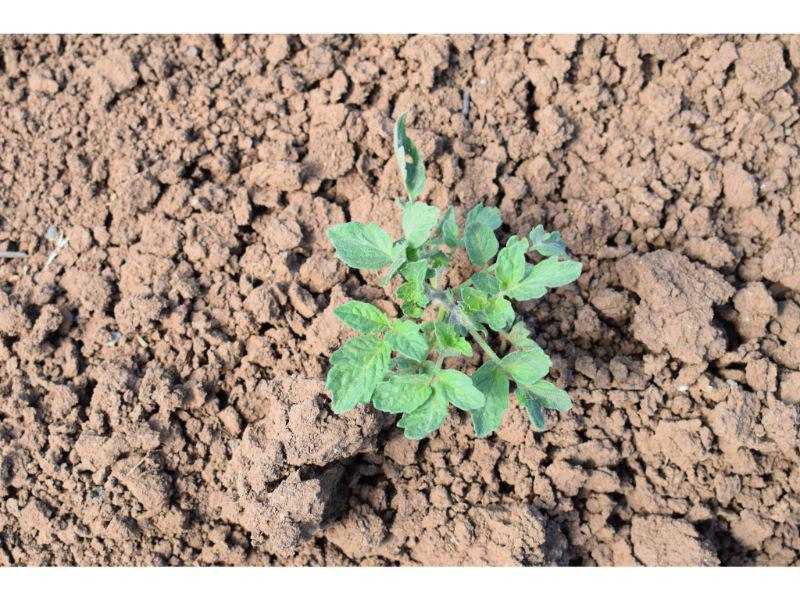tomato: (324, 106, 584, 440)
